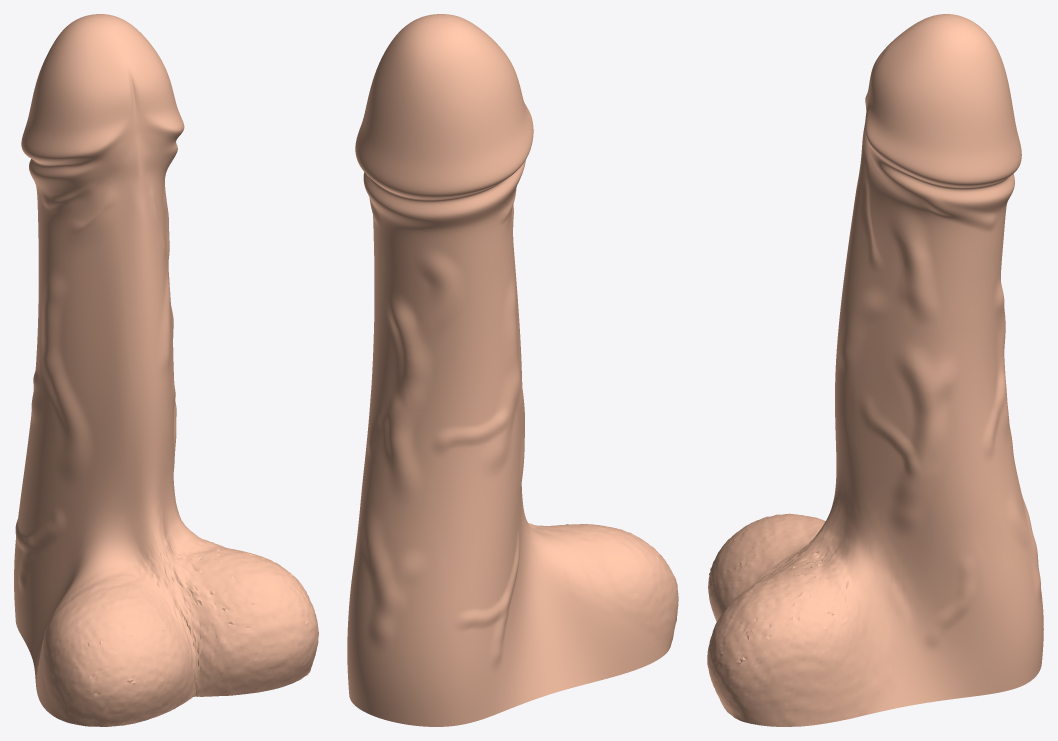
Rendered from Cock.gltf.
3 renders of one model, left to right at view 1: azimuth 30°, elevation 25°; view 2: azimuth 150°, elevation 25°; view 3: azimuth 270°, elevation 25°, orthographic. The views are drawn at different scales.
Visible parts, largest first — view 1: xpoptoy02veined; view 2: xpoptoy02veined; view 3: xpoptoy02veined.
Boxes of the visible parts, x1,y1,x2,y2 form: xpoptoy02veined: [14, 14, 318, 726]; xpoptoy02veined: [347, 14, 678, 726]; xpoptoy02veined: [707, 14, 1043, 726].
Bounding box in the file's own units: 0.6496 × 1.49 × 0.7089.
